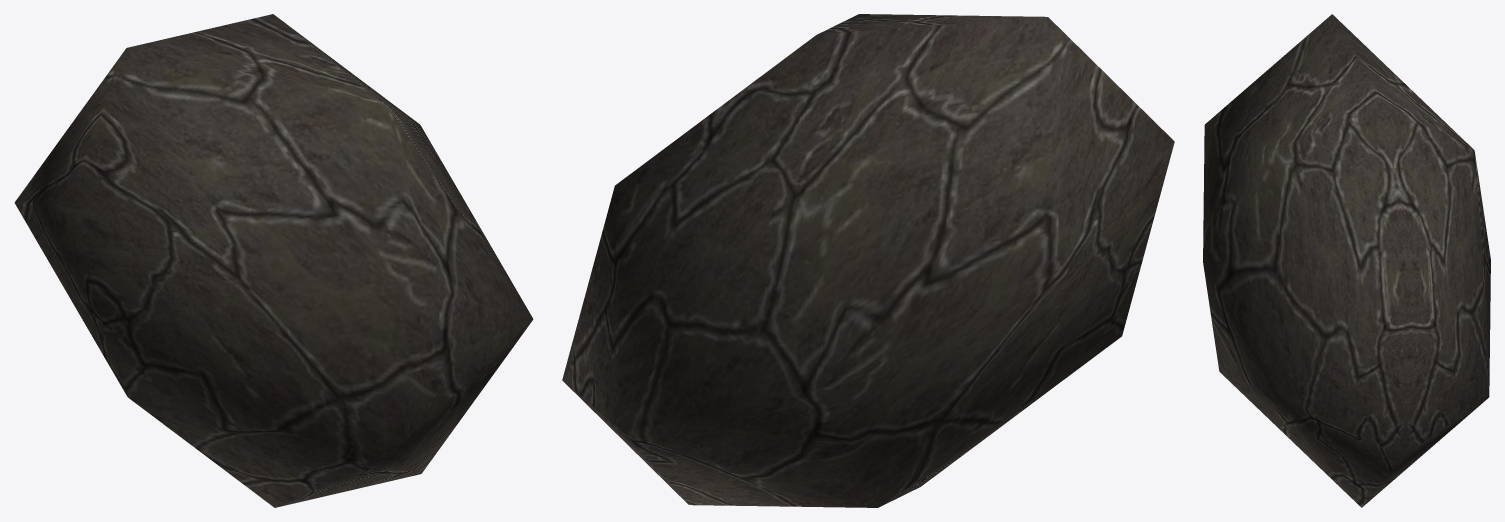
File: stone_22.obj
3 views of the same model, side by side, from view 1: azimuth 30°, elevation 25°; view 2: azimuth 150°, elevation 25°; view 3: azimuth 270°, elevation 25° (orthographic). The views are drawn at different scales.
Visible parts, largest first — view 1: (null); view 2: (null); view 3: (null).
Boxes of the visible parts, x1,y1,x2,y2 form: (null): [14, 14, 533, 507]; (null): [562, 14, 1174, 507]; (null): [1203, 14, 1490, 507].
Size of the model in its own units: 1.34 by 1.34 by 0.9181.
